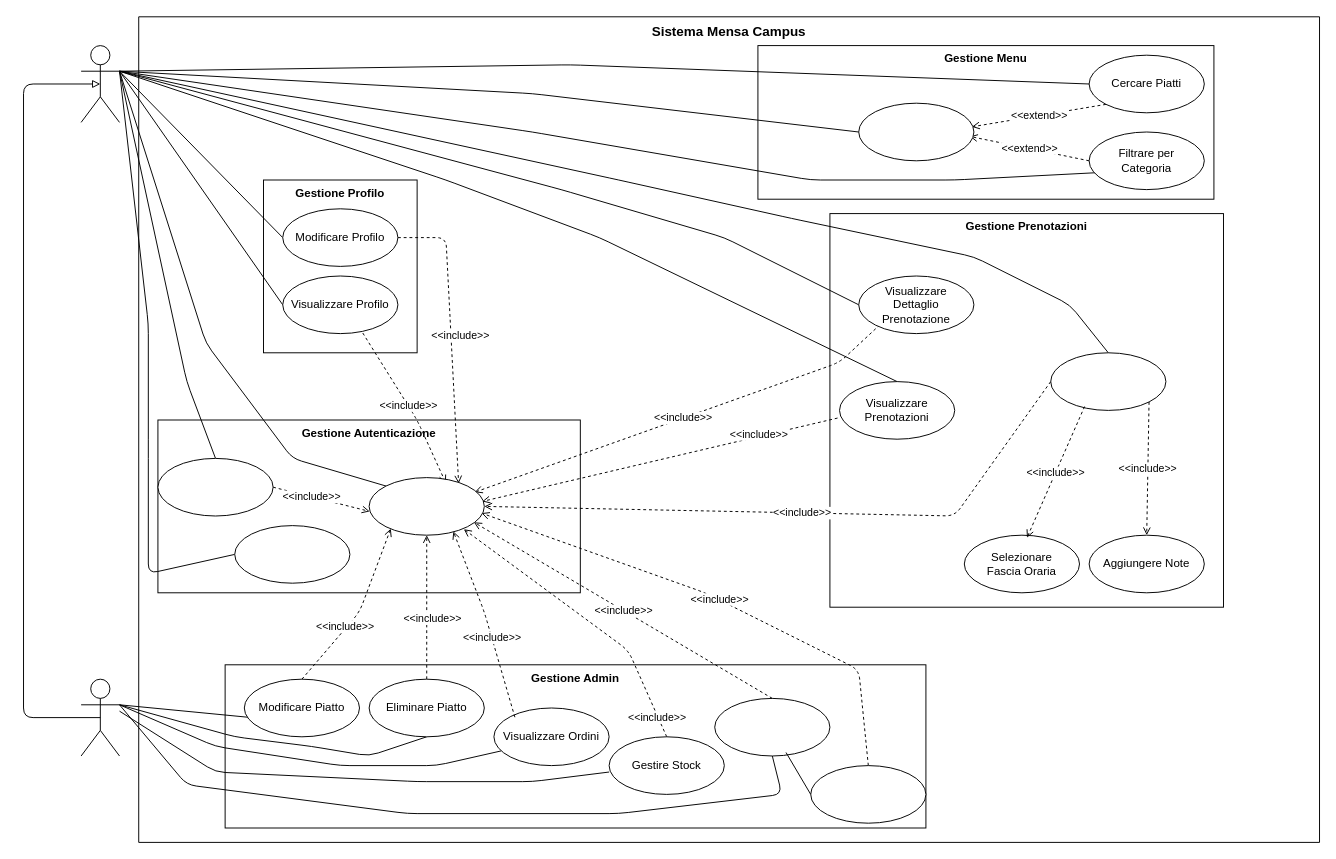
This 1336x859 diagram has some shape labels left out. Here are the shapes that lost their labels. From the top down, the centre of each, then its label:
the point at 100,83: Utente
the point at 916,131: Visualizzare Menu
the point at 1108,381: Creare Prenotazione
the point at 215,486: Logout
the point at 426,506: Autenticazione
the point at 292,554: Registrazione
the point at 100,717: Amministratore
the point at 772,726: Aggiungere Piatto
the point at 868,794: Modificare Stato Ordine
